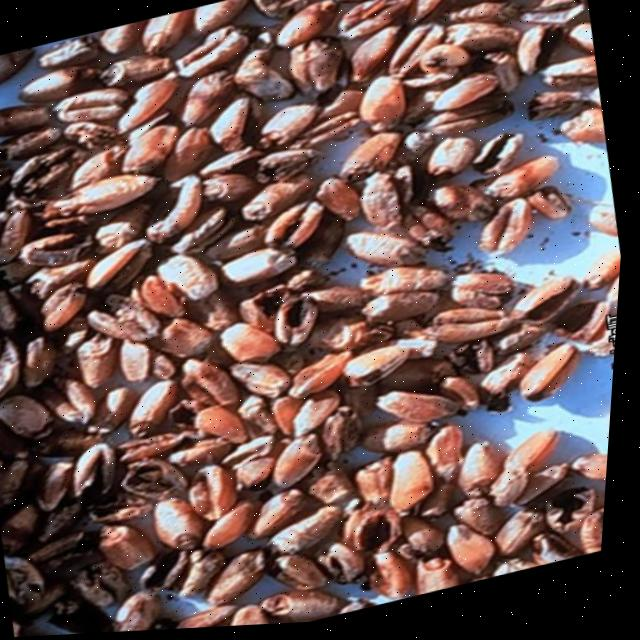wheat_grain: (49, 173, 161, 218), (415, 92, 512, 134), (6, 148, 81, 200), (478, 153, 559, 200), (177, 28, 251, 79), (148, 176, 204, 242), (518, 341, 578, 400), (118, 78, 181, 132), (372, 355, 457, 394), (181, 70, 239, 126), (241, 177, 313, 222), (87, 238, 149, 290), (288, 37, 344, 94), (155, 251, 220, 300), (204, 552, 265, 603), (271, 2, 337, 49), (96, 522, 158, 572), (151, 496, 207, 551), (340, 503, 399, 555), (232, 49, 293, 99), (345, 231, 432, 266), (221, 248, 299, 287), (507, 275, 576, 319), (501, 428, 559, 480), (252, 488, 313, 537), (504, 462, 567, 509), (121, 123, 181, 172), (341, 131, 402, 179), (388, 449, 434, 512), (359, 291, 441, 326), (294, 349, 355, 396), (271, 432, 324, 486), (130, 380, 182, 435), (374, 390, 460, 423), (87, 306, 161, 344), (348, 27, 401, 80), (181, 357, 239, 405), (359, 170, 406, 229), (258, 103, 321, 147), (68, 147, 129, 192), (458, 439, 506, 496), (431, 73, 501, 112), (345, 343, 413, 383), (259, 586, 341, 619), (167, 124, 218, 177), (25, 257, 94, 296), (218, 323, 283, 364), (444, 523, 496, 574), (359, 265, 449, 294), (441, 21, 520, 54), (19, 67, 91, 103), (201, 504, 256, 551), (430, 183, 496, 222), (3, 554, 48, 611), (358, 75, 408, 126), (52, 88, 127, 122), (387, 23, 435, 76), (0, 394, 55, 440), (136, 272, 189, 319), (479, 352, 533, 398), (272, 294, 318, 348), (17, 231, 84, 268), (340, 2, 405, 40), (75, 331, 119, 387), (71, 442, 114, 499), (492, 197, 533, 256), (359, 422, 437, 453), (100, 54, 173, 87), (178, 549, 228, 597), (289, 394, 342, 439), (492, 509, 542, 556), (192, 404, 250, 444), (198, 462, 240, 517), (527, 89, 597, 122), (116, 433, 188, 465), (170, 435, 237, 469), (228, 360, 291, 396), (265, 200, 314, 246), (208, 98, 252, 149), (470, 131, 523, 173), (370, 549, 417, 596), (256, 147, 322, 180), (159, 318, 214, 357), (425, 423, 464, 478), (426, 135, 478, 176), (453, 495, 506, 535), (320, 406, 360, 459), (37, 36, 101, 69), (316, 540, 366, 582), (274, 551, 332, 587), (142, 12, 194, 52), (569, 301, 612, 349), (315, 177, 362, 220), (2, 127, 62, 160), (22, 333, 59, 386), (419, 554, 470, 592), (41, 287, 85, 331), (354, 459, 394, 507), (538, 54, 596, 87), (431, 320, 510, 344), (515, 23, 550, 77), (113, 592, 164, 629), (198, 147, 258, 178), (192, 1, 250, 33), (221, 222, 272, 258), (0, 207, 32, 263), (60, 120, 124, 148), (449, 270, 517, 296), (200, 171, 257, 202), (399, 514, 444, 553), (416, 42, 472, 73), (1, 103, 56, 134), (308, 470, 355, 506), (559, 107, 604, 144), (578, 248, 618, 289), (519, 1, 587, 25), (119, 336, 153, 383), (98, 23, 146, 56), (302, 285, 367, 309), (2, 503, 40, 544), (433, 306, 506, 327), (179, 603, 240, 628), (0, 454, 31, 503), (446, 1, 515, 23), (531, 532, 575, 565), (488, 53, 521, 95), (0, 336, 22, 397), (97, 502, 154, 525), (569, 451, 607, 482), (577, 507, 602, 554), (587, 204, 617, 237), (565, 21, 592, 55), (0, 290, 19, 334)
